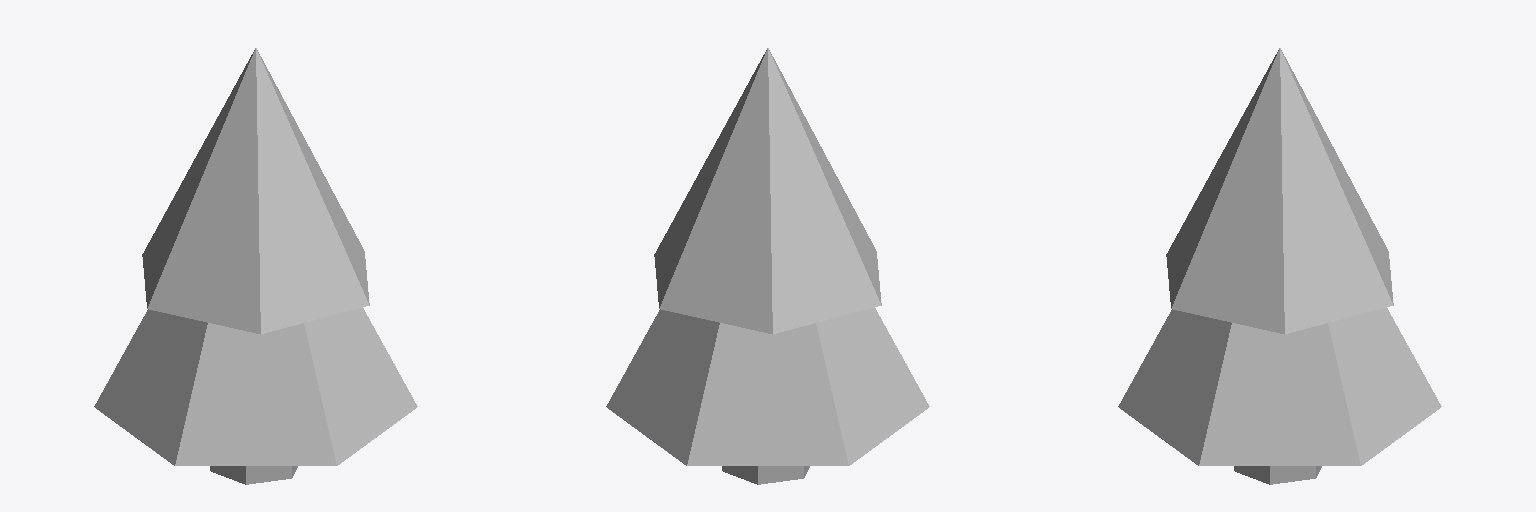
File: tree.obj
The picture shows the model from 3 angles: view 1: azimuth 30°, elevation 25°; view 2: azimuth 150°, elevation 25°; view 3: azimuth 270°, elevation 25°; orthographic projection.
Parts seen in each view (by area): view 1: Cone.001, Cone, Cylinder; view 2: Cone.001, Cone, Cylinder; view 3: Cone.001, Cone, Cylinder.
Boxes of the visible parts, x1,y1,x2,y2 form: Cone.001: [94, 307, 417, 465]; Cone: [142, 48, 369, 333]; Cylinder: [210, 466, 297, 484]; Cone.001: [606, 307, 929, 465]; Cone: [654, 48, 881, 333]; Cylinder: [722, 466, 809, 484]; Cone.001: [1118, 307, 1441, 465]; Cone: [1166, 48, 1393, 333]; Cylinder: [1234, 466, 1321, 484].
Bounding box in the file's own units: 1.73 × 2.84 × 2.